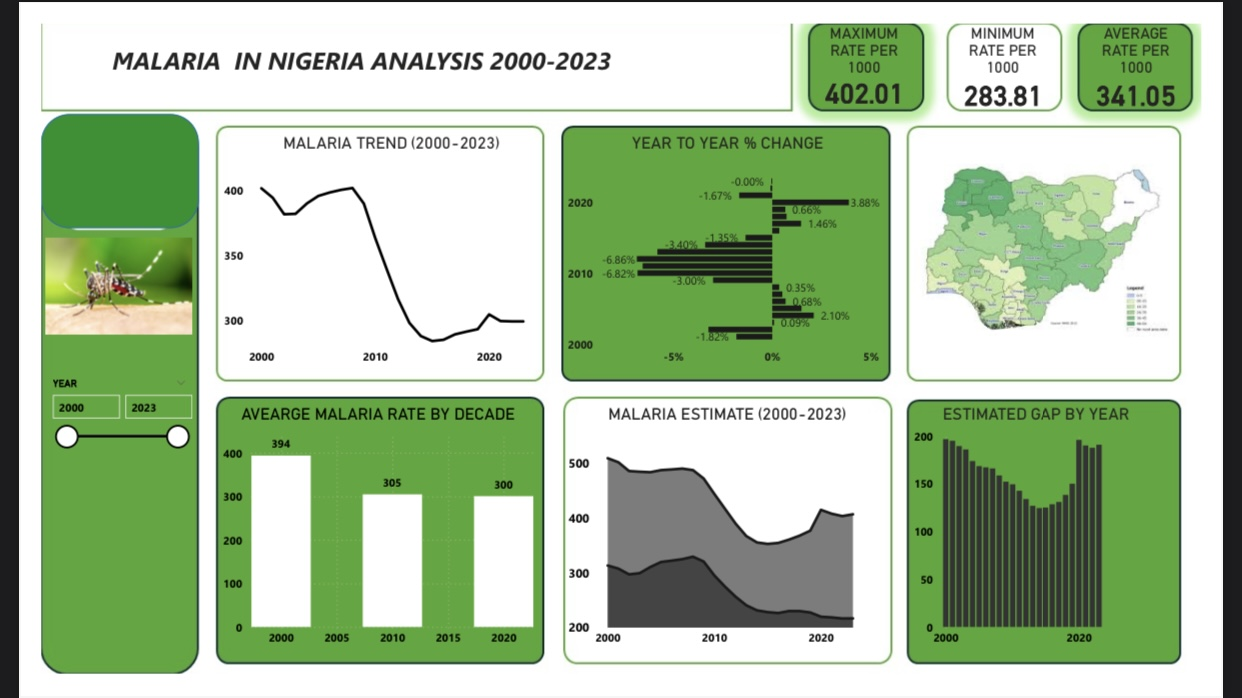

The page's visual inventory and layout, read from the dashboard file:
{"tool":"powerbi","page":{"name":"Page 1","canvas":[1280,720],"ordinal":0},"visuals":[{"type":"card","title":"MAXIMUM RATE PER 1000","fields":{"Values":["Max(442CEA8_ALL_LATEST.RATE_PER_1000_N)"]},"box":[856.7,0,102.5,94.1],"z":0},{"type":"card","title":"MINIMUM RATE PER 1000","fields":{"Values":["Min(442CEA8_ALL_LATEST.RATE_PER_1000_N)"]},"box":[1009.6,0,102.5,99.1],"z":1000},{"type":"card","title":"AVERAGE RATE PER 1000","fields":{"Values":["Avg(442CEA8_ALL_LATEST.RATE_PER_1000_N)"]},"box":[1149,0,119.3,99.1],"z":2000},{"type":"lineChart","title":"YEARLY MALARIA INCIDENCE RATE (2000-2023)","fields":{"Y":["Sum(442CEA8_ALL_LATEST.RATE_PER_1000_N)"],"Category":["442CEA8_ALL_LATEST.DIM_TIME"]},"box":[196.5,120.9,379.6,265.4],"z":3000},{"type":"areaChart","title":"MALARIA ESTIMATE (2000-2023)","fields":{"Category":["442CEA8_ALL_LATEST.DIM_TIME"],"Y":["Sum(442CEA8_ALL_LATEST.RATE_PER_1000_NL)","Sum(442CEA8_ALL_LATEST.RATE_PER_1000_NU)"]},"box":[576,420,362,276],"z":4000},{"type":"clusteredBarChart","title":"YEAR TO YEAR % CHANGE","fields":{"Category":["442CEA8_ALL_LATEST.DIM_TIME"],"Y":["Sum(442CEA8_ALL_LATEST.YoY_Change)"]},"box":[576.2,120.9,362.8,265.4],"z":5000},{"type":"image","box":[958,100,294,300],"z":6000},{"type":"image","box":[0,120,172,340],"z":7000},{"type":"shape","box":[0,100,174,126],"z":8000},{"type":"clusteredColumnChart","title":"AVERAGE MALARIA RATE BY DECADE","fields":{"Y":["Avg(442CEA8_ALL_LATEST.RATE_PER_1000_N)"],"Category":["442CEA8_ALL_LATEST.Decade"]},"box":[196,420,352,276],"z":9000},{"type":"clusteredColumnChart","title":"ESTIMATED GAP BY YEAR","fields":{"Y":["Sum(442CEA8_ALL_LATEST.Estimate_Gap)"],"Category":["442CEA8_ALL_LATEST.DIM_TIME"]},"box":[958,420,280,276],"z":10000},{"type":"textbox","box":[16,0,788,94],"z":11000},{"type":"slicer","fields":{"Values":["442CEA8_ALL_LATEST.DIM_TIME"]},"box":[0,386,172,98],"z":12000}]}

Visuals, with their boxes in screenshot pixels (x1, y1, x2, y2), scaled from the page's 1280x720 canvas onto the 1242x698 screenshot:
"MAXIMUM RATE PER 1000" card: bbox=(831, 0, 931, 91)
"MINIMUM RATE PER 1000" card: bbox=(980, 0, 1079, 96)
"AVERAGE RATE PER 1000" card: bbox=(1115, 0, 1231, 96)
"YEARLY MALARIA INCIDENCE RATE (2000-2023)" lineChart: bbox=(191, 117, 559, 374)
"MALARIA ESTIMATE (2000-2023)" areaChart: bbox=(559, 407, 910, 675)
"YEAR TO YEAR % CHANGE" clusteredBarChart: bbox=(559, 117, 911, 374)
image: bbox=(930, 97, 1215, 388)
image: bbox=(0, 116, 167, 446)
shape: bbox=(0, 97, 169, 219)
"AVERAGE MALARIA RATE BY DECADE" clusteredColumnChart: bbox=(190, 407, 532, 675)
"ESTIMATED GAP BY YEAR" clusteredColumnChart: bbox=(930, 407, 1201, 675)
textbox: bbox=(16, 0, 780, 91)
slicer - 442CEA8_ALL_LATEST.DIM_TIME: bbox=(0, 374, 167, 469)
